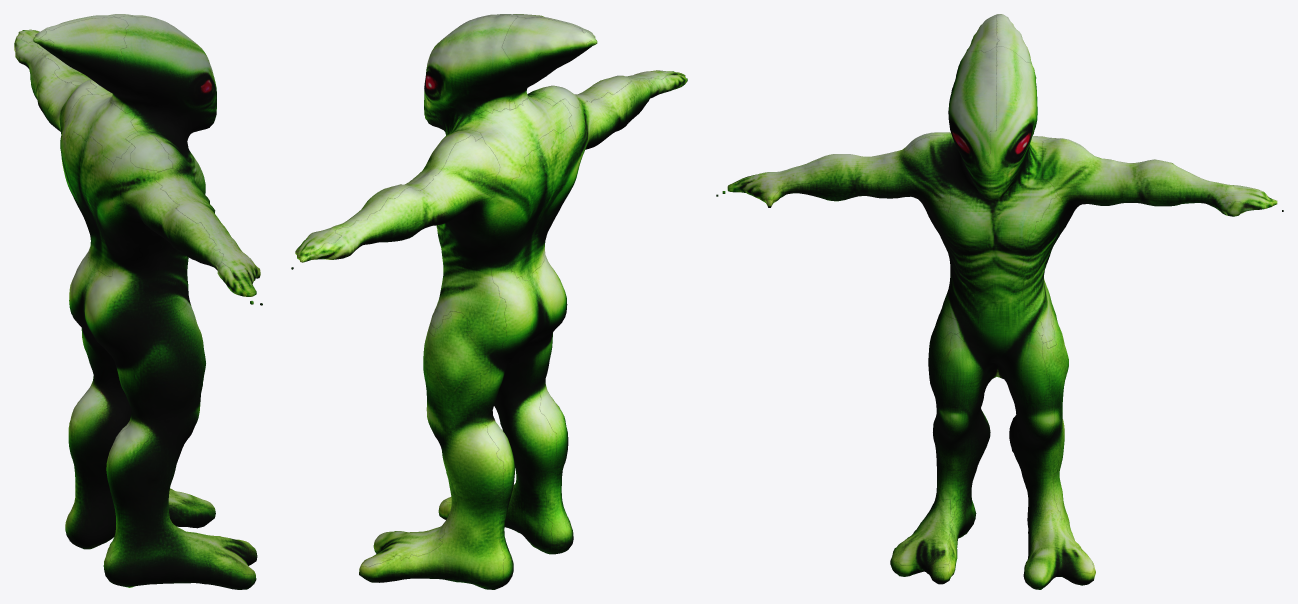
File: alien2.glb
3 views of the same model, side by side, from view 1: azimuth 30°, elevation 25°; view 2: azimuth 150°, elevation 25°; view 3: azimuth 270°, elevation 25° (orthographic). The views are drawn at different scales.
Visible parts, largest first — view 1: Mesh1; view 2: Mesh1; view 3: Mesh1.
Boxes of the visible parts, x1,y1,x2,y2 form: Mesh1: [14, 14, 262, 589]; Mesh1: [291, 14, 687, 589]; Mesh1: [716, 14, 1283, 589].
Bounding box in the file's own units: 0.4416 × 1.17 × 1.2.
Materials: 1 (1 with a texture image).
